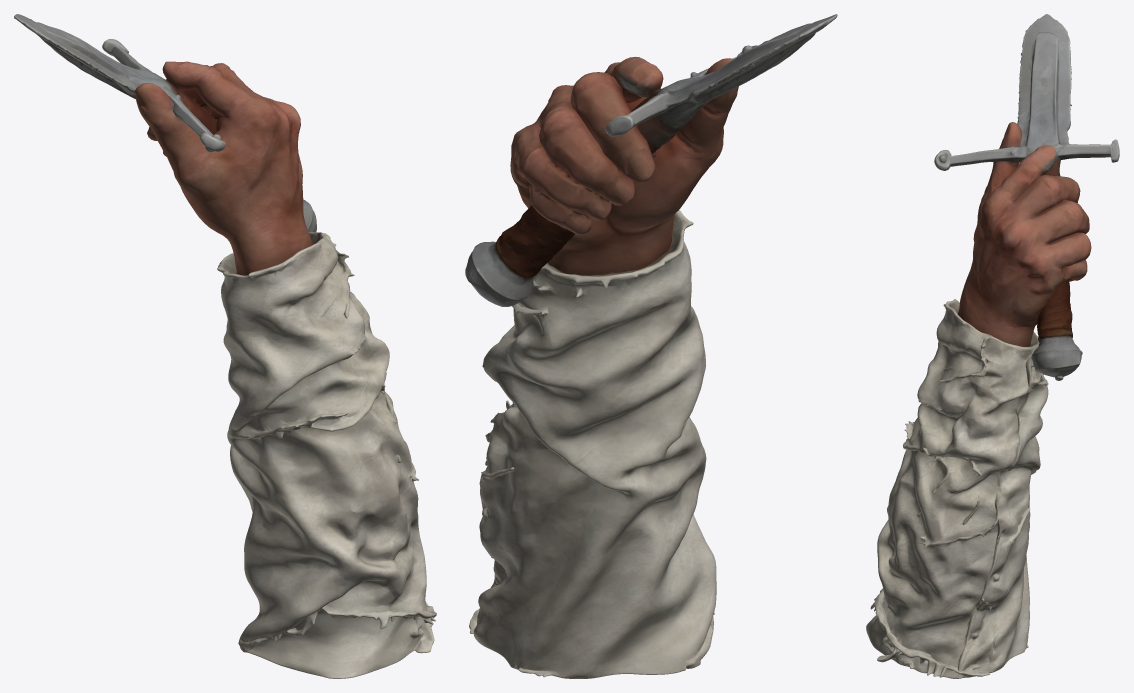
3 views of the same model, side by side, from view 1: azimuth 30°, elevation 25°; view 2: azimuth 150°, elevation 25°; view 3: azimuth 270°, elevation 25° (orthographic). The views are drawn at different scales.
Visible parts, largest first — view 1: tripo_node_1aabc325-3a17-4e3b-aa23-82686cd1ccfd; view 2: tripo_node_1aabc325-3a17-4e3b-aa23-82686cd1ccfd; view 3: tripo_node_1aabc325-3a17-4e3b-aa23-82686cd1ccfd.
Part boxes in pixels (box(x1,y1,x2,y2)): tripo_node_1aabc325-3a17-4e3b-aa23-82686cd1ccfd: box(14, 14, 436, 678); tripo_node_1aabc325-3a17-4e3b-aa23-82686cd1ccfd: box(465, 14, 837, 678); tripo_node_1aabc325-3a17-4e3b-aa23-82686cd1ccfd: box(866, 14, 1119, 678).
Bounding box in the file's own units: 0.5873 × 1 × 0.44.
1 material, 1 textured.
